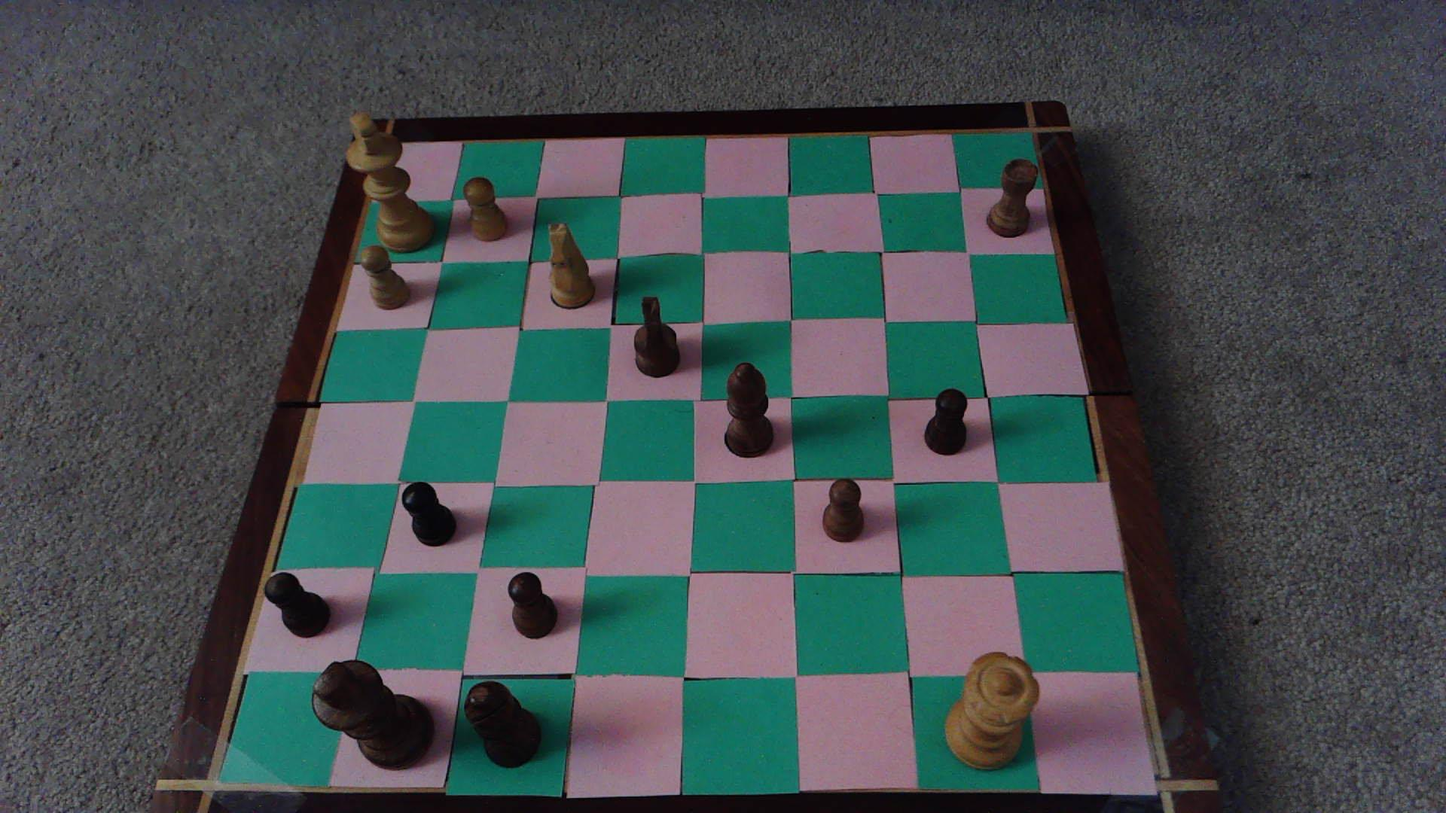dark_piece: (313, 662, 432, 769), (464, 681, 540, 767), (725, 362, 773, 455), (265, 573, 329, 637), (987, 159, 1037, 236), (634, 297, 679, 376), (402, 483, 455, 546), (508, 572, 557, 638), (925, 388, 966, 454), (822, 479, 863, 541)
white_piece: (347, 113, 433, 252), (946, 653, 1039, 769), (550, 223, 594, 306), (361, 245, 409, 309), (464, 176, 506, 241)
